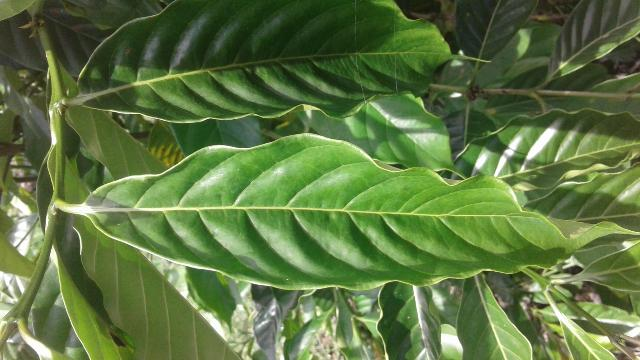healthy: (84, 135, 640, 293)
